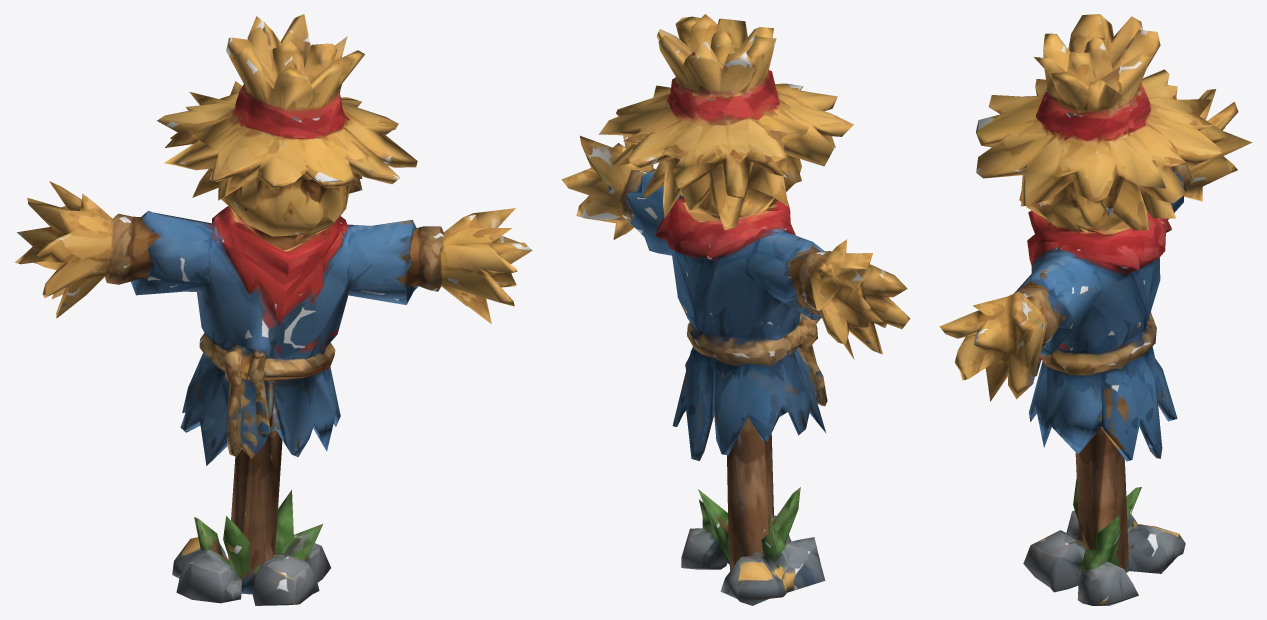
File: dec_scarecrow.glb
3 views of the same model, side by side, from view 1: azimuth 30°, elevation 25°; view 2: azimuth 150°, elevation 25°; view 3: azimuth 270°, elevation 25° (orthographic). The views are drawn at different scales.
Parts seen in each view (by area): view 1: BakeLow; view 2: BakeLow; view 3: BakeLow.
Part boxes in pixels (x1,y1,x2,y2): BakeLow: (15, 14, 532, 605); BakeLow: (561, 14, 910, 605); BakeLow: (939, 14, 1252, 605).
Size of the model in its own units: 0.7014 by 0.8842 by 0.4443.
Materials: 1 (1 with a texture image).
